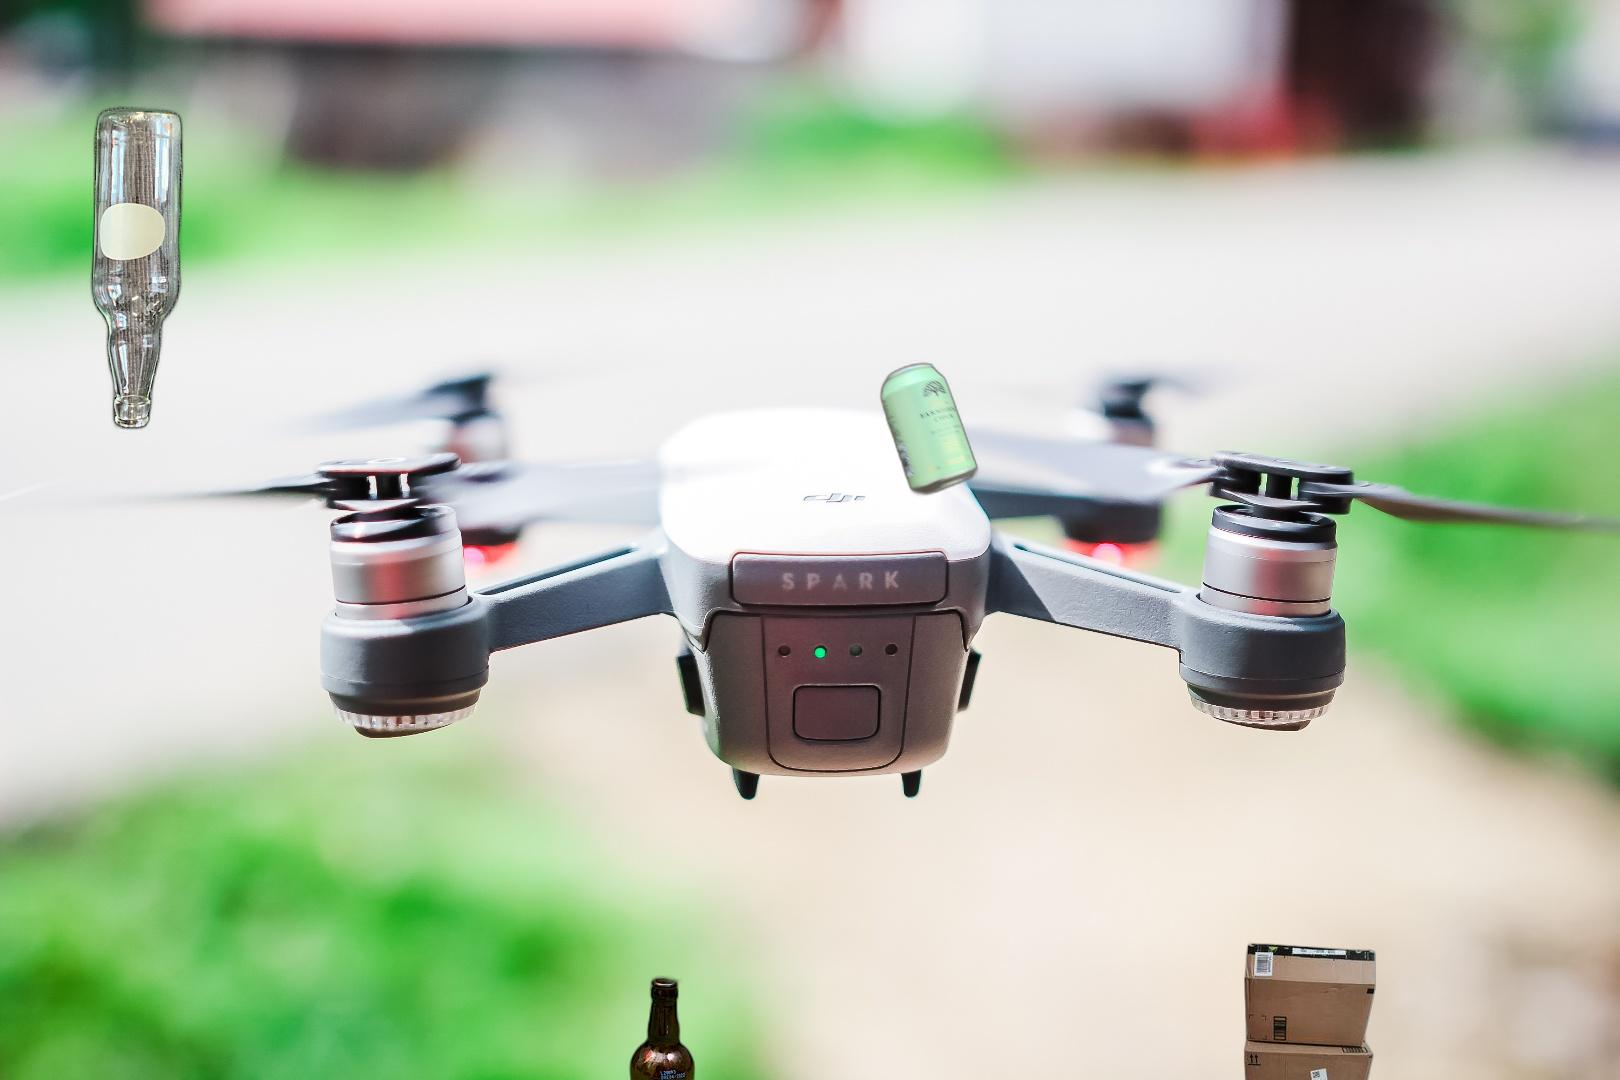glass: (87, 101, 187, 435), (440, 970, 698, 1080)
metal-cans: (876, 357, 982, 501)
trashbox-cardboard: (1197, 940, 1392, 1080)
